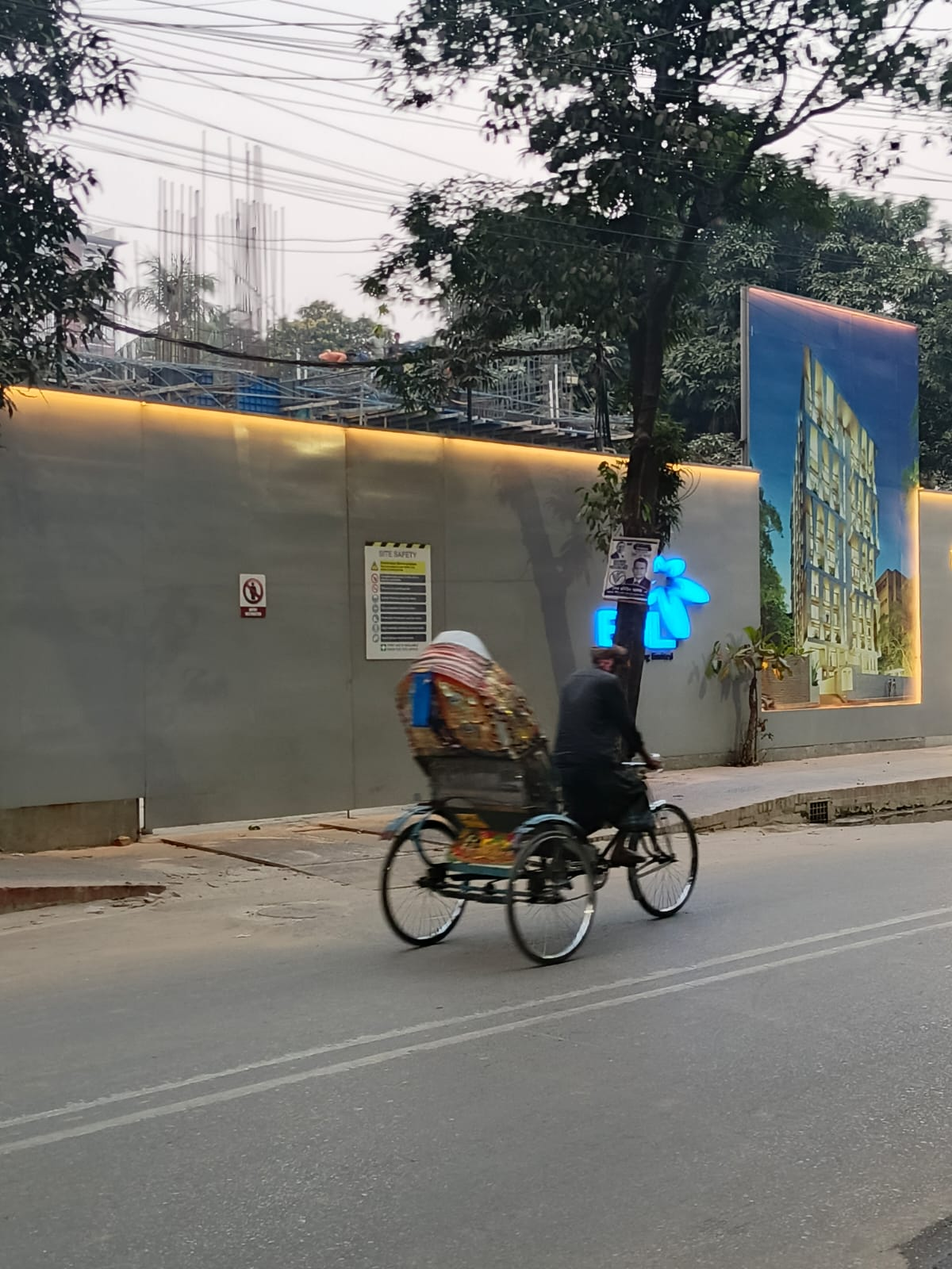auto-ricksaw: (362, 603, 781, 993)
